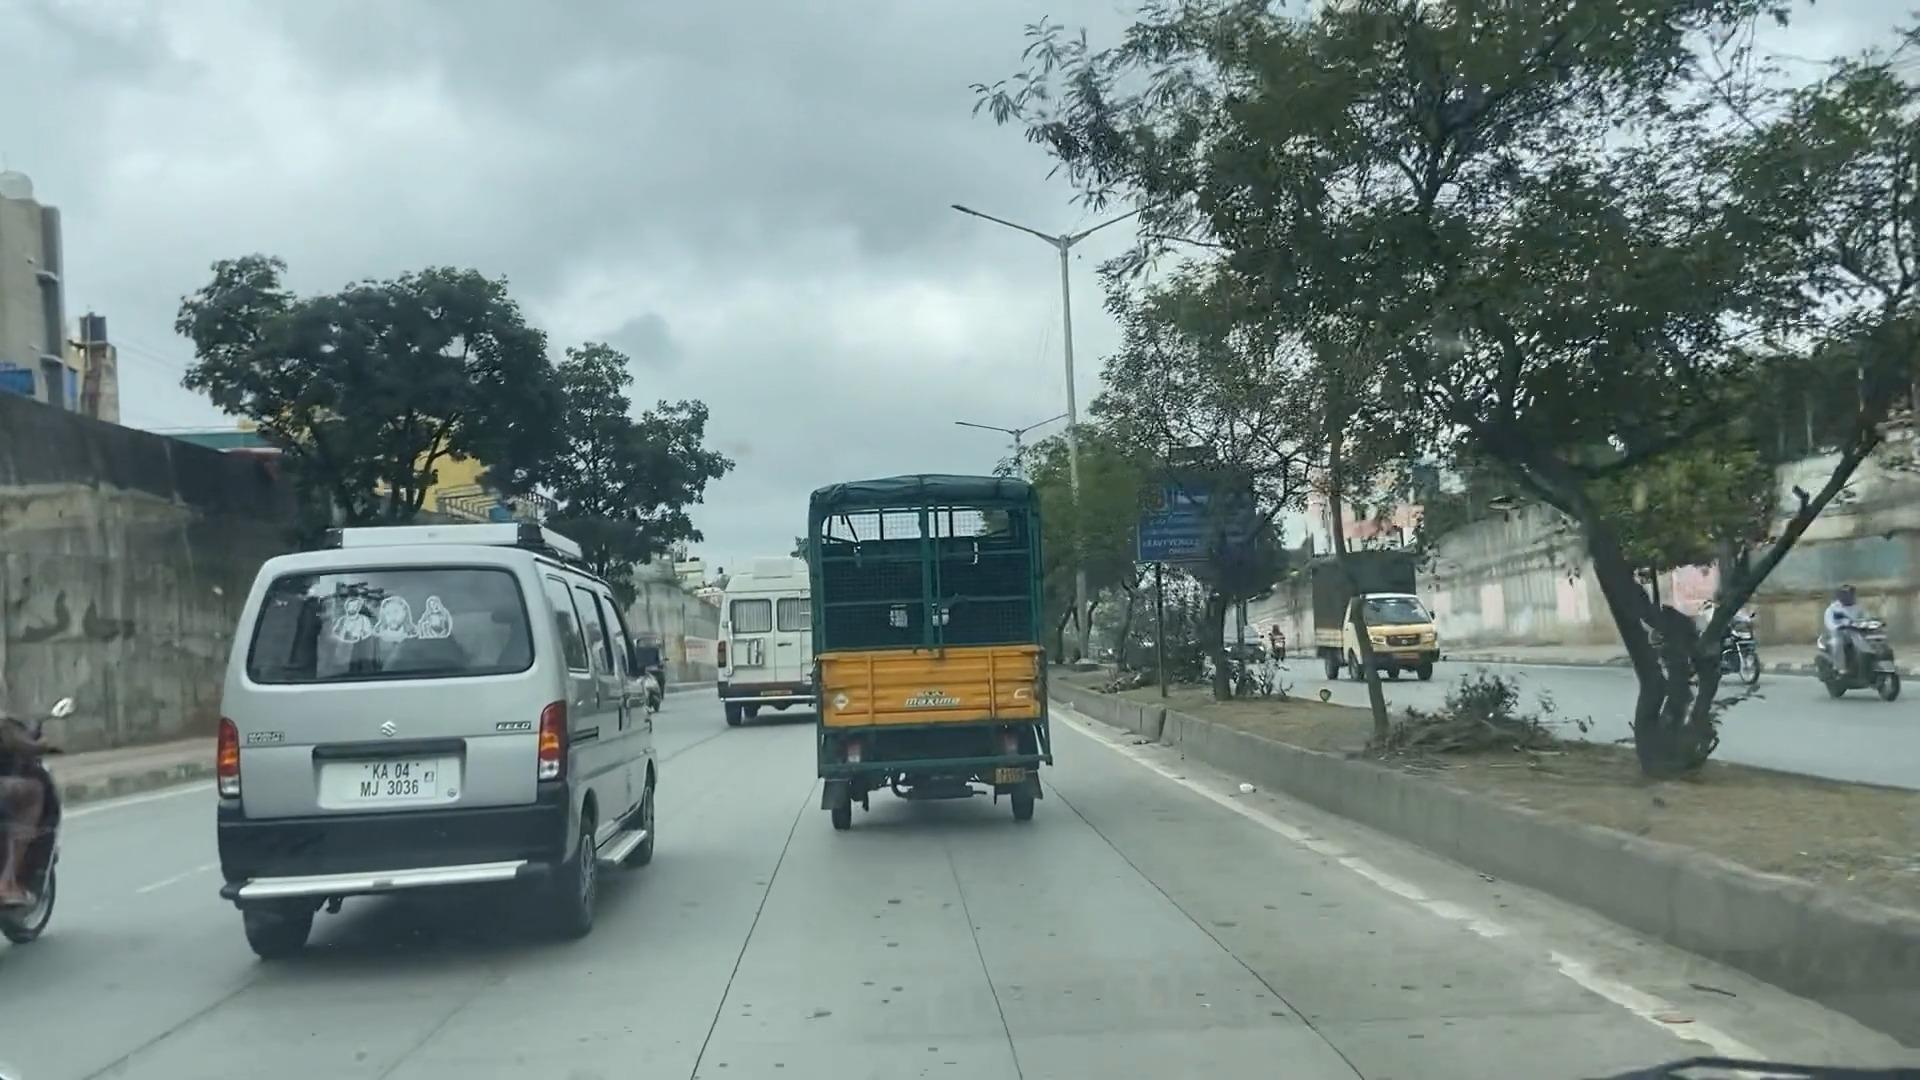HMV: (764, 473, 1043, 824), (695, 566, 814, 720)
LMV: (189, 526, 691, 964)
